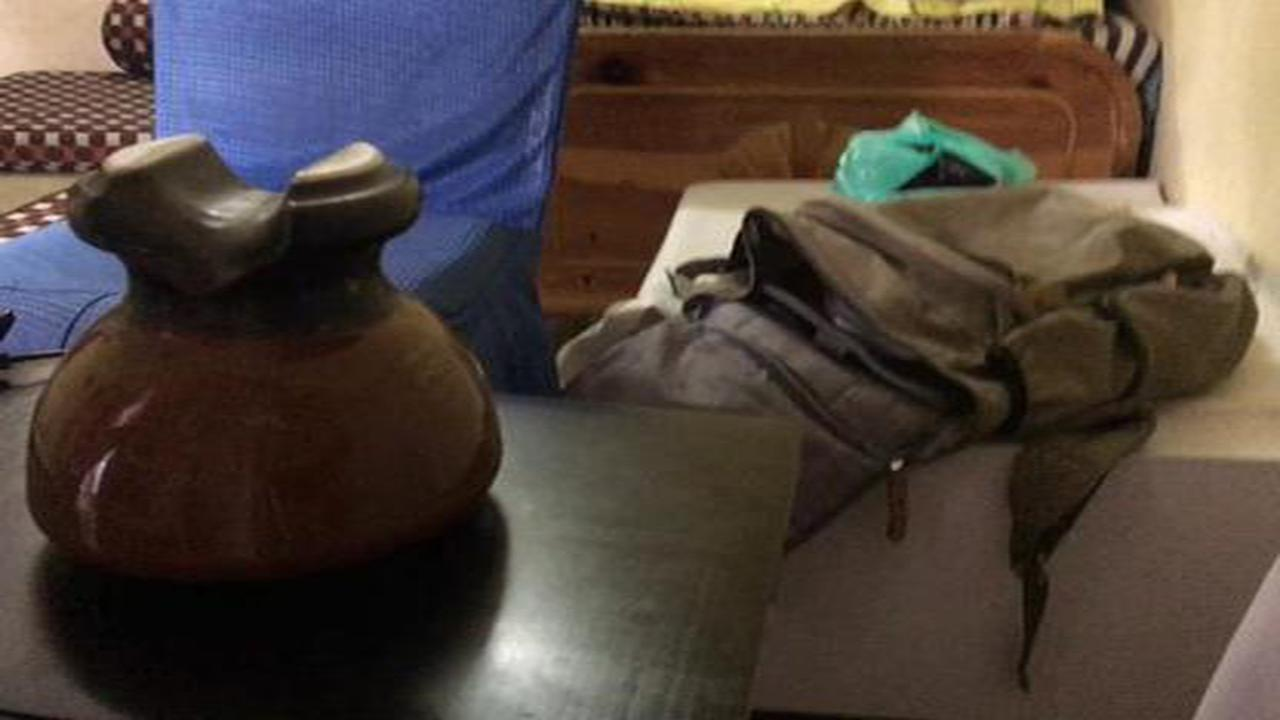insulator_pin: (19, 134, 533, 594)
